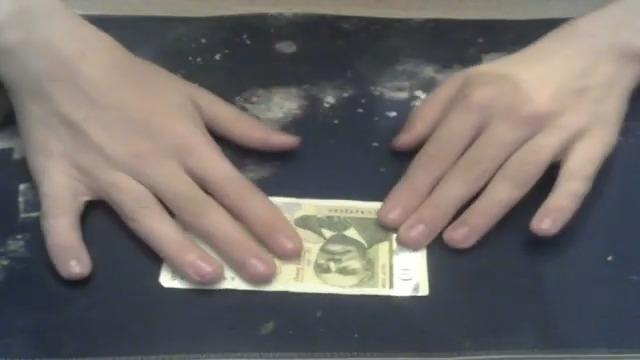10leva: (289, 215, 391, 286)
